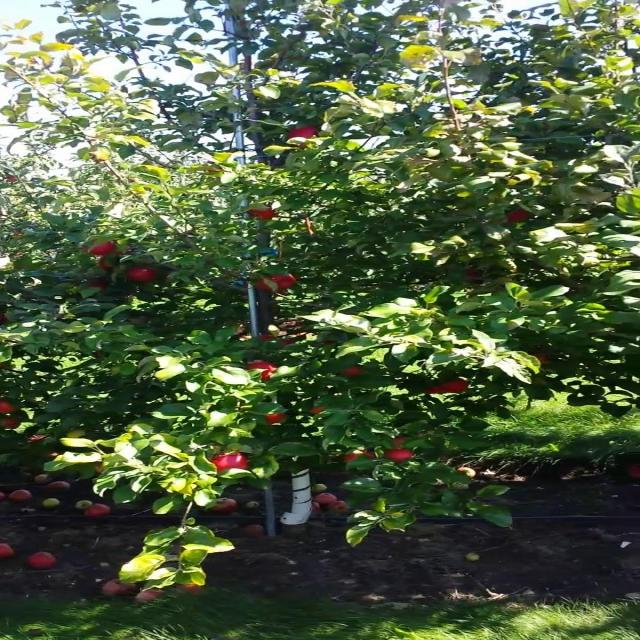apple: (212, 456, 249, 472), (262, 276, 299, 292), (84, 240, 119, 256), (248, 364, 277, 380), (127, 268, 156, 283), (390, 448, 414, 464), (291, 128, 320, 141), (248, 208, 277, 220), (348, 452, 377, 462), (447, 380, 469, 393), (390, 436, 411, 448), (532, 352, 553, 364), (511, 212, 530, 223), (340, 368, 363, 377), (99, 260, 116, 271), (6, 400, 20, 413), (426, 388, 446, 396), (269, 416, 286, 425), (6, 420, 21, 430), (92, 280, 107, 289), (312, 408, 327, 416), (468, 268, 480, 278), (99, 464, 107, 472)
